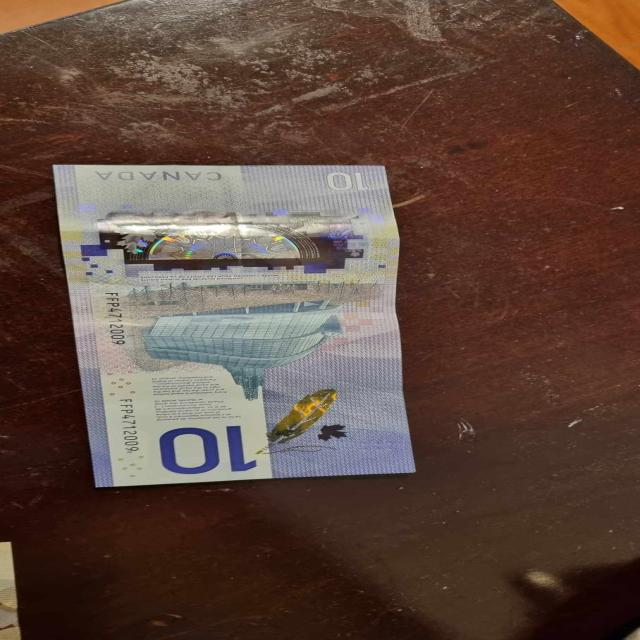10 cad: (73, 170, 410, 483)
